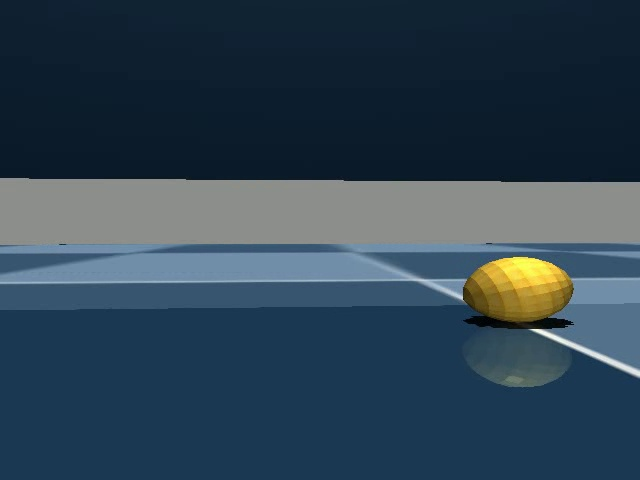lemon: (454, 249, 580, 335)
